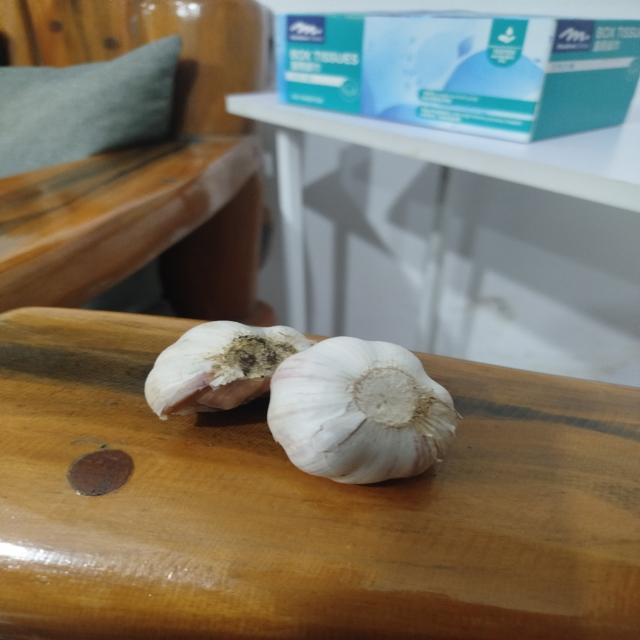garlic: (266, 335, 463, 485), (144, 319, 314, 421)
